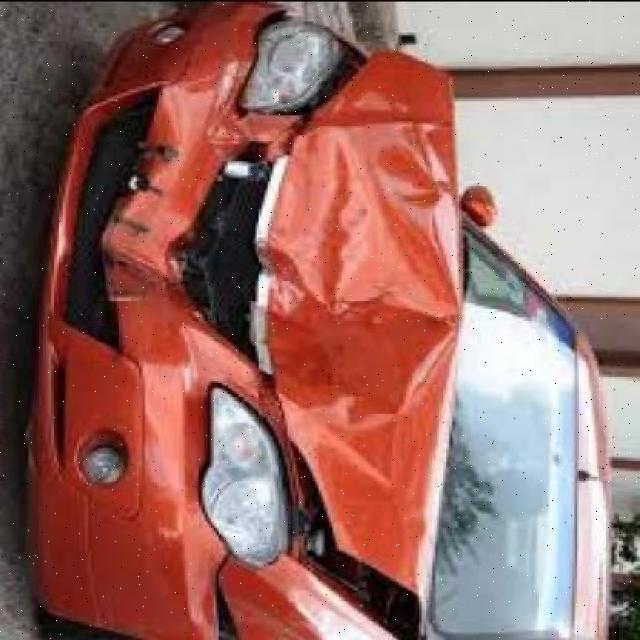damage: (31, 6, 465, 640)
